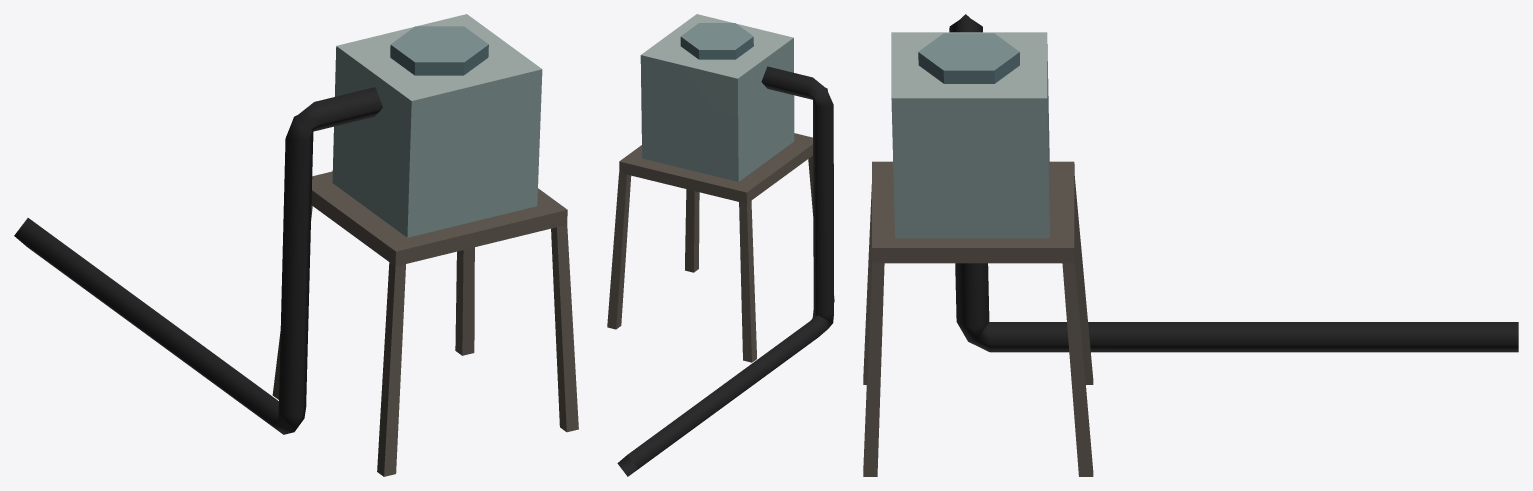
File: Building_RoofPart04.fbx
3 renders of one model, left to right at view 1: azimuth 30°, elevation 25°; view 2: azimuth 150°, elevation 25°; view 3: azimuth 270°, elevation 25°, orthographic. The views are drawn at different scales.
Visible parts, largest first — view 1: Building_roofpart04; view 2: Building_roofpart04; view 3: Building_roofpart04.
Part boxes in pixels (box(x1,y1,x2,y2)): Building_roofpart04: box(14, 14, 578, 476); Building_roofpart04: box(607, 14, 834, 476); Building_roofpart04: box(863, 14, 1518, 476).
Size of the model in its own units: 134 by 190 by 297.
